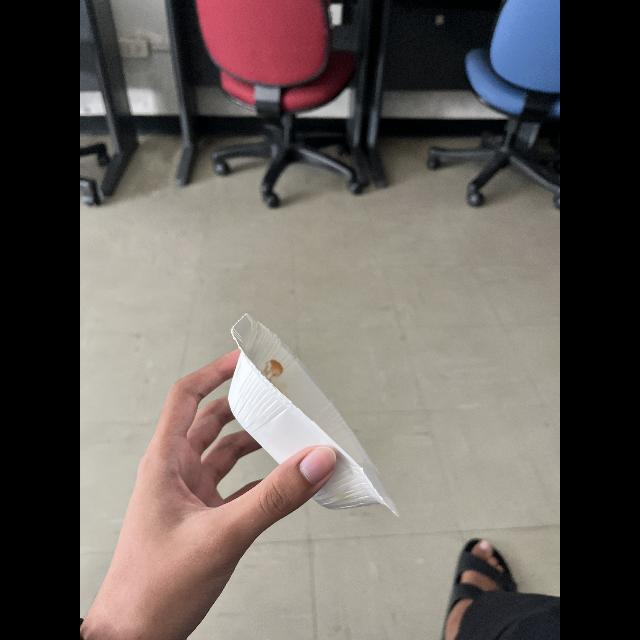cardboard_bowl: (217, 308, 399, 522)
